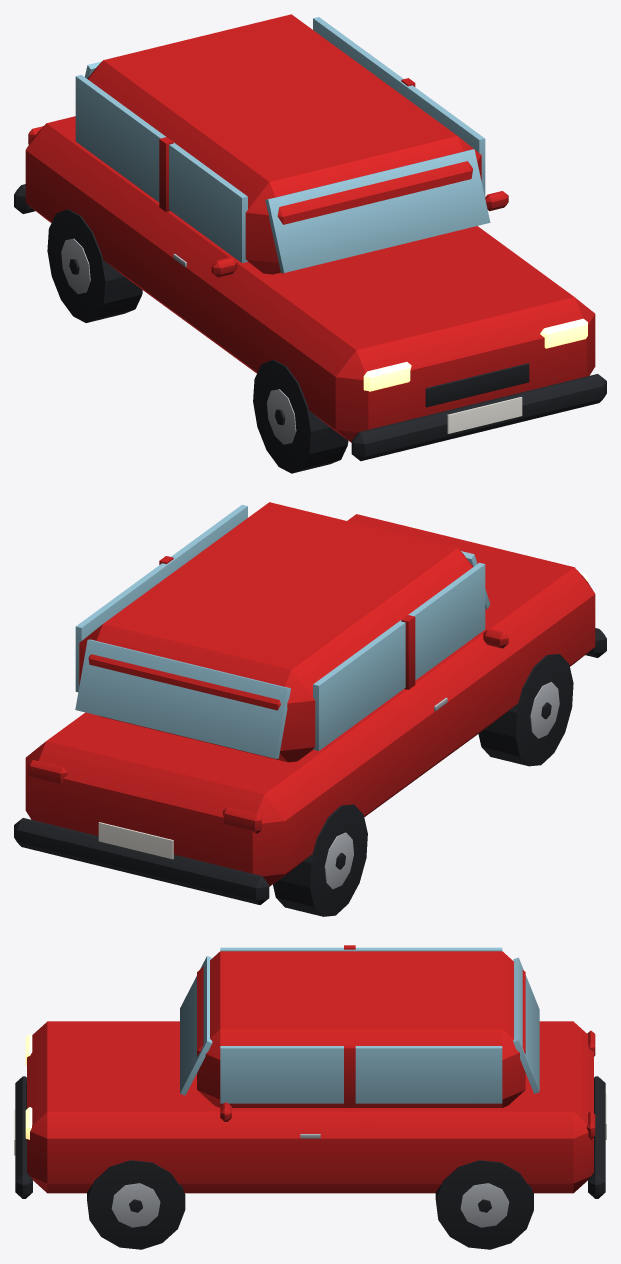
Rendered from car_hatchback_01.glb.
3 renders of one model, top to bottom at view 1: azimuth 30°, elevation 25°; view 2: azimuth 150°, elevation 25°; view 3: azimuth 270°, elevation 25°, orthographic. The views are drawn at different scales.
Parts seen in each view (by area): view 1: car_hatchback_01_LOD0; view 2: car_hatchback_01_LOD0; view 3: car_hatchback_01_LOD0.
Part boxes in pixels (left/top/right/bottom): car_hatchback_01_LOD0: left=14, top=14, right=606, bottom=473; car_hatchback_01_LOD0: left=14, top=502, right=606, bottom=916; car_hatchback_01_LOD0: left=14, top=945, right=606, bottom=1249.
Size of what is drawn, in the model's own units: 1.99 by 1.56 by 4.08.
Materials: 1 (1 with a texture image).
